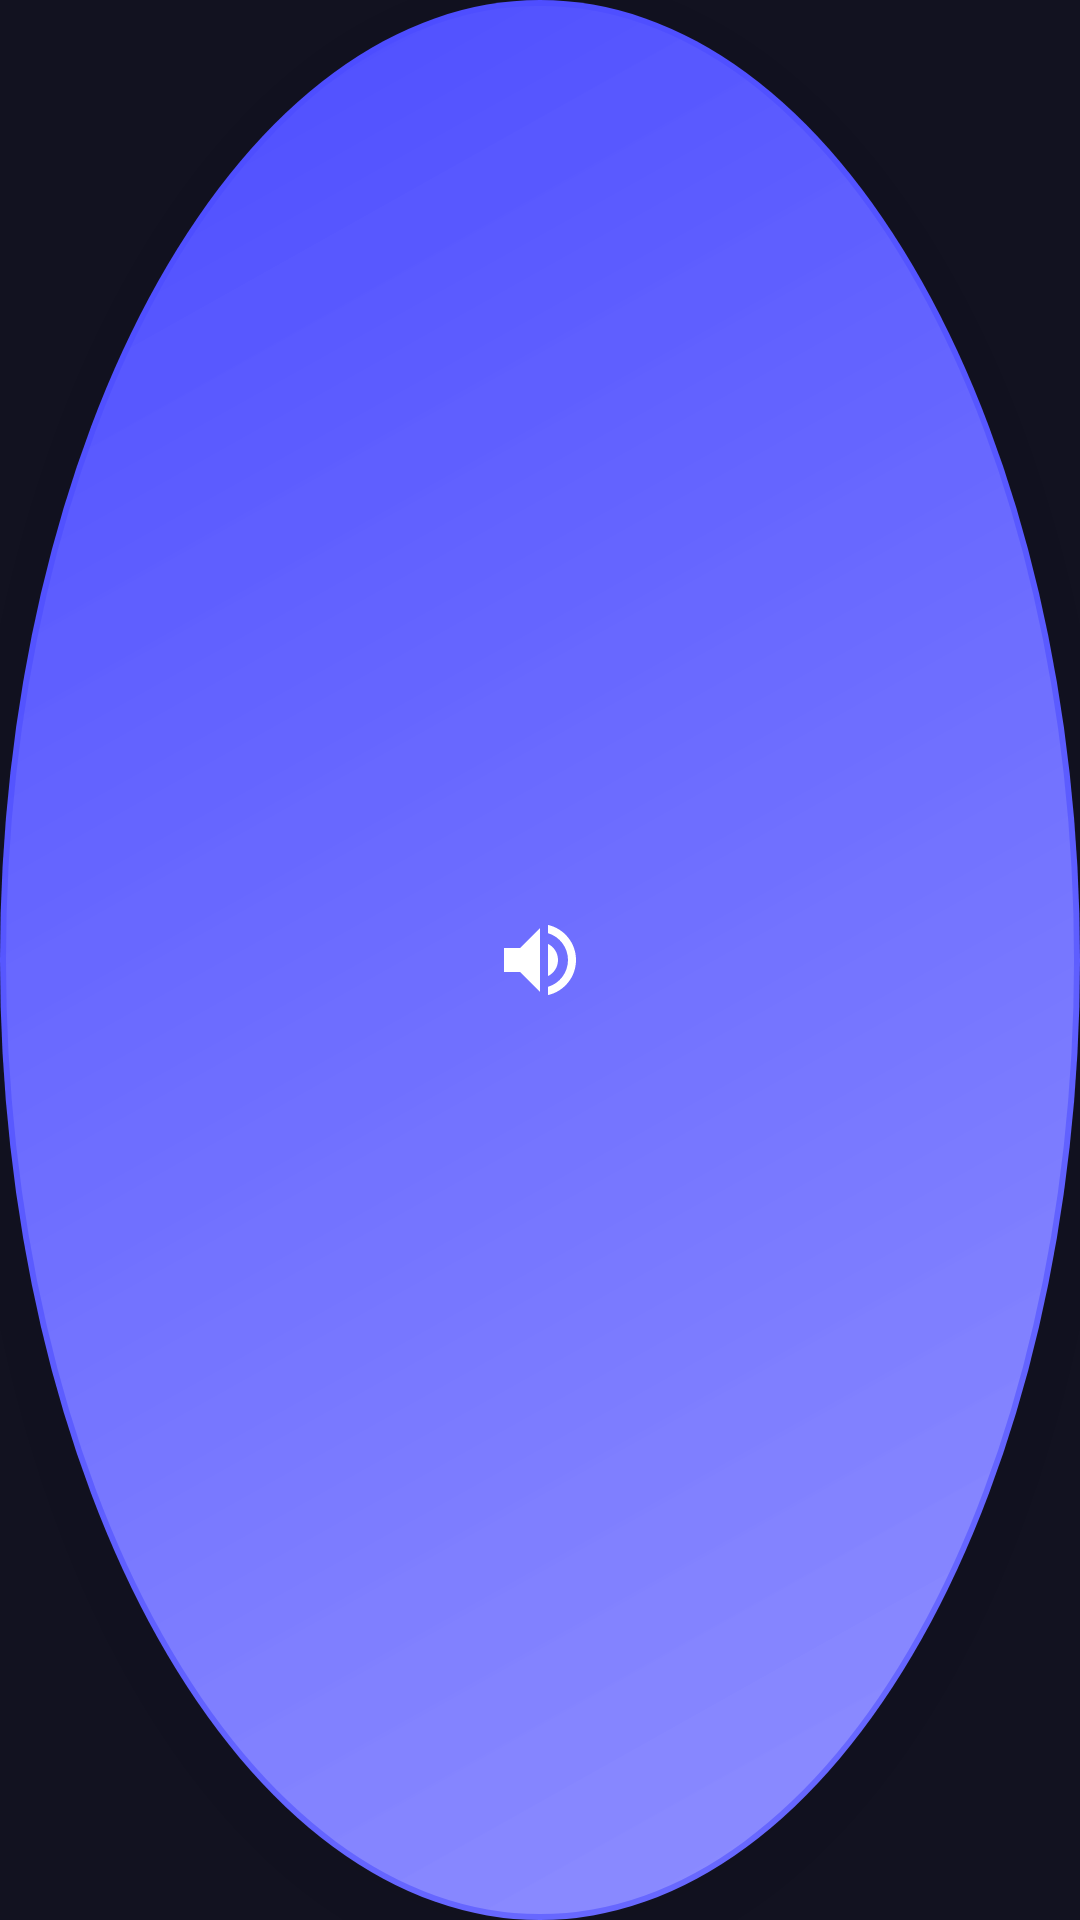

Named icons in this screenshot (1080 x 1920) and their centers, point (x, y):
volume: point (540, 960)
